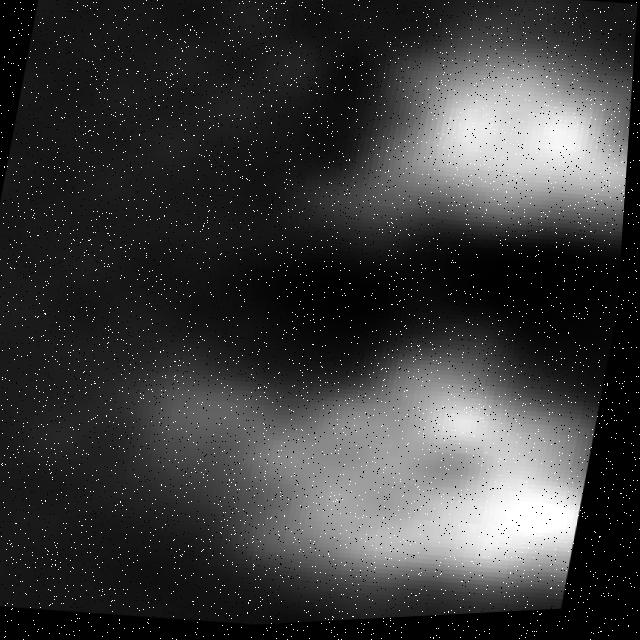person: (36, 293, 618, 638), (262, 25, 638, 289)
